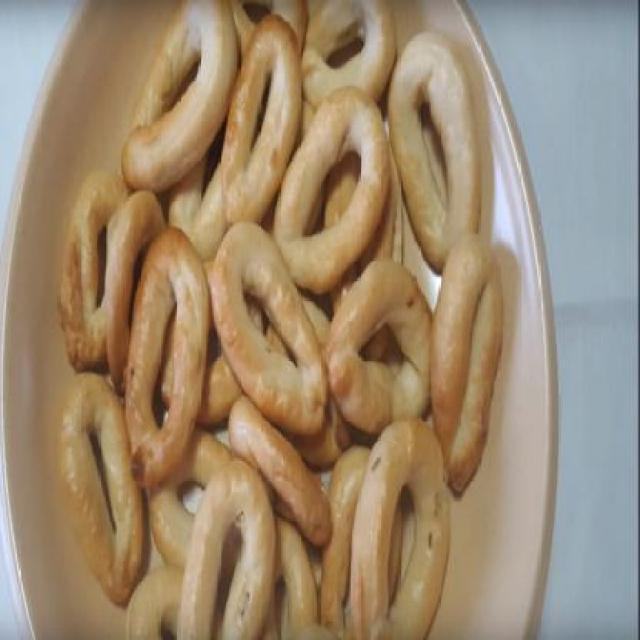Taralli: (53, 4, 504, 636)
